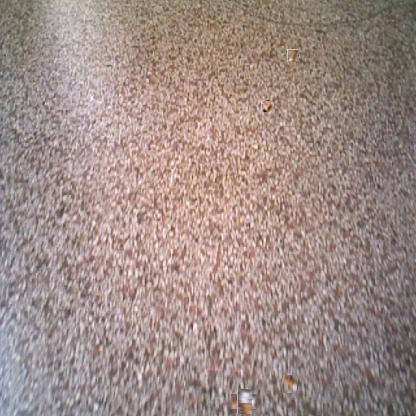dirty: (234, 391, 255, 412), (282, 375, 298, 393), (261, 100, 272, 112), (286, 50, 298, 61)
